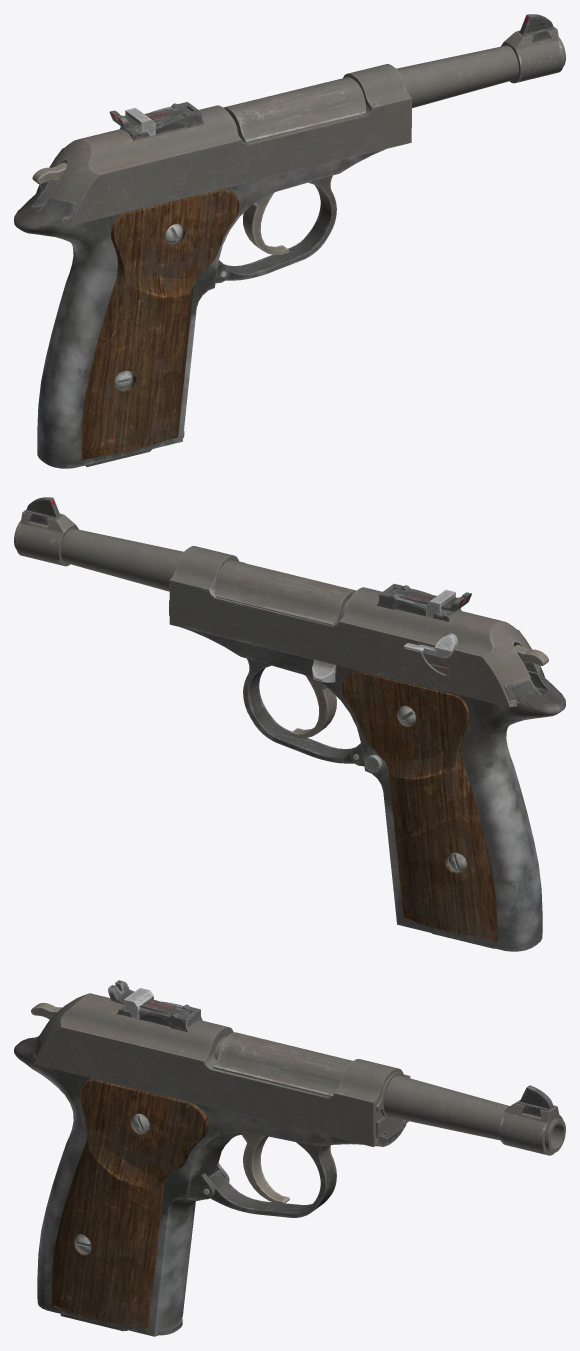
File: pistol.glb
3 views of the same model, one above another, from view 1: azimuth 30°, elevation 25°; view 2: azimuth 150°, elevation 25°; view 3: azimuth 330°, elevation 25° (orthographic).
Visible parts, largest first — view 1: Cylinder.003, slide, trigger; view 2: Cylinder.003, slide, trigger; view 3: Cylinder.003, slide, trigger.
Boxes of the visible parts, x1=… form: Cylinder.003: x1=14, y1=14, x2=565, y2=468; slide: x1=41, y1=64, x2=411, y2=225; trigger: x1=243, y1=193, x2=289, y2=254; Cylinder.003: x1=14, y1=497, x2=565, y2=951; slide: x1=169, y1=546, x2=544, y2=707; trigger: x1=290, y1=676, x2=336, y2=737; Cylinder.003: x1=14, y1=1032, x2=565, y2=1336; slide: x1=32, y1=980, x2=410, y2=1146; trigger: x1=242, y1=1134, x2=289, y2=1204.
Bounding box in the file's own units: 0.2219 × 0.1307 × 0.0318.
Materials: 1 (1 with a texture image).
